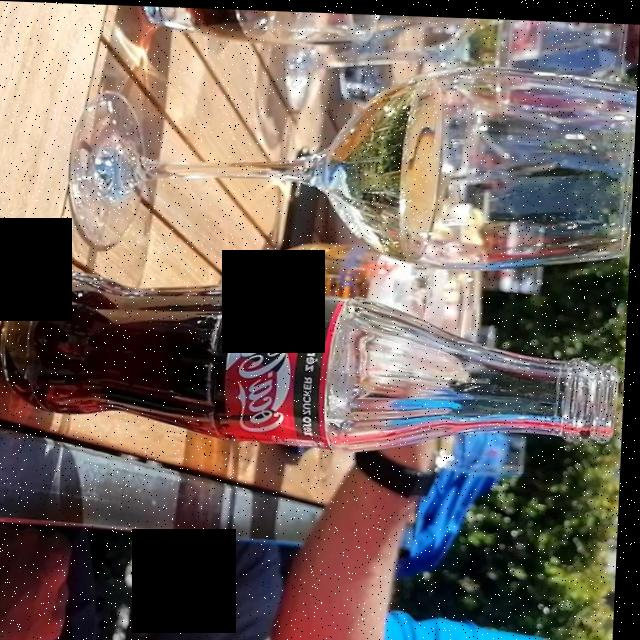coca-cola-zero: (4, 266, 256, 444)
